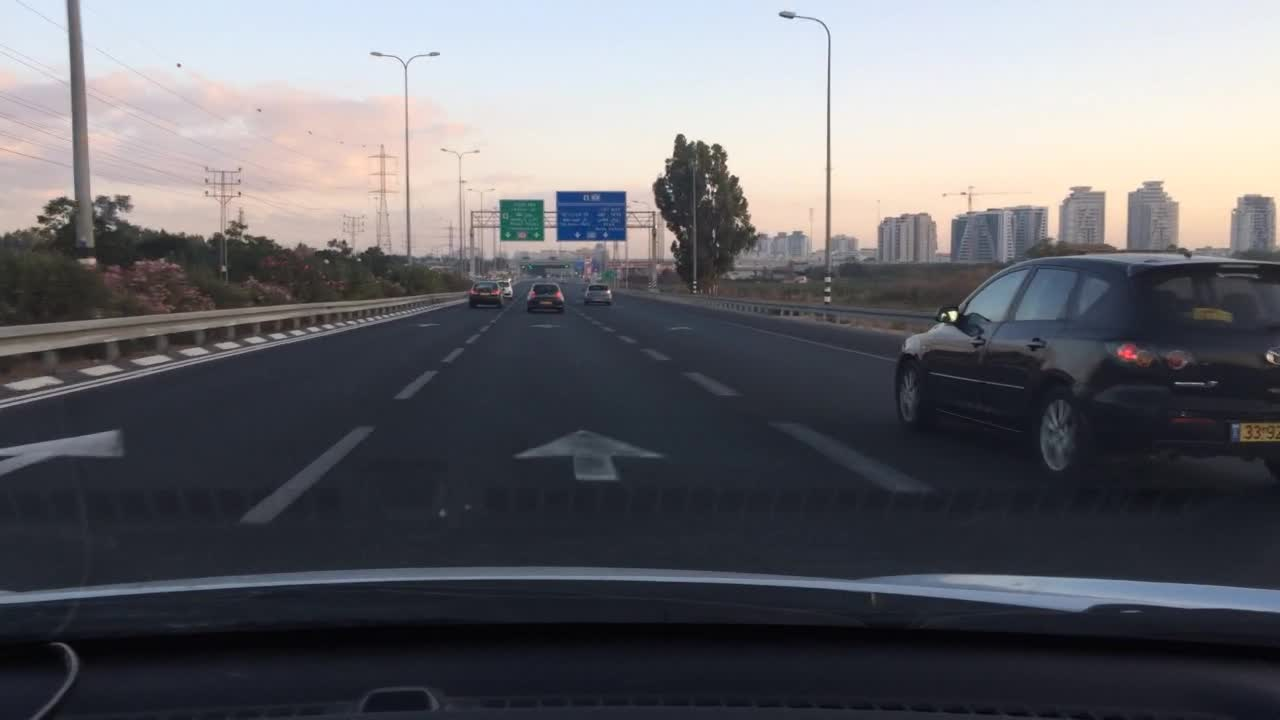car: (890, 246, 1279, 489), (527, 280, 566, 313), (468, 279, 505, 309), (582, 282, 615, 306), (498, 279, 513, 298)
traffic sign: (555, 190, 625, 239), (498, 197, 543, 243), (601, 269, 618, 281), (575, 258, 585, 274)
